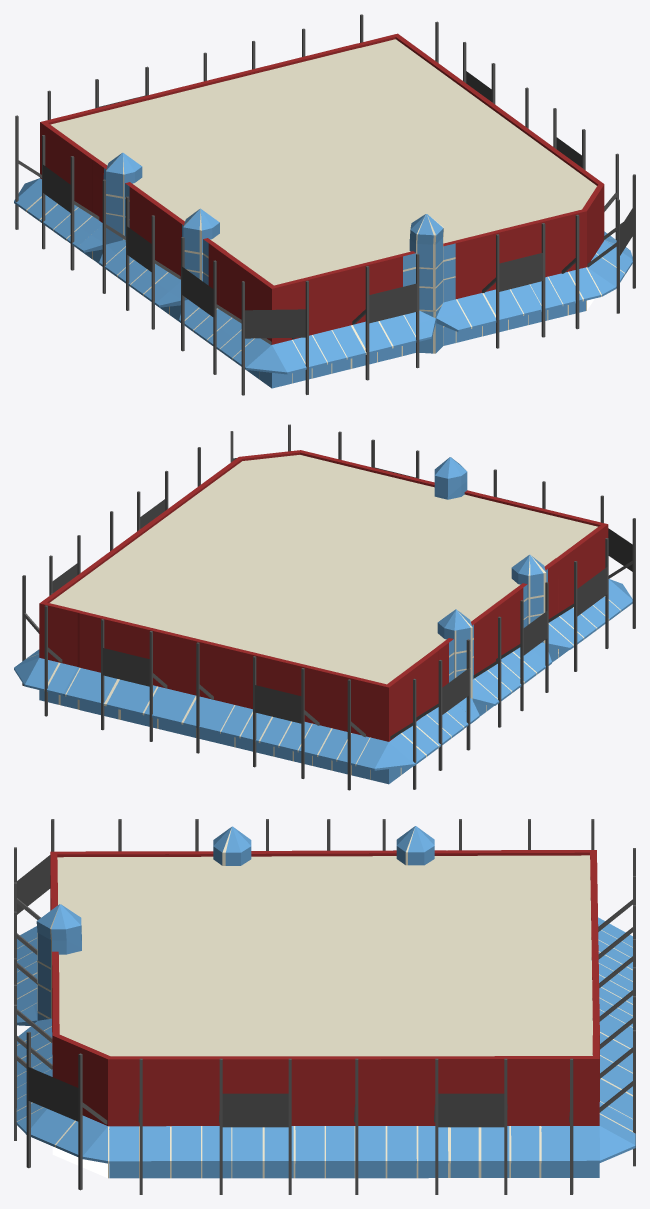
The model's file is wbbuilding2v2_draco.glb.
The picture shows the model from 3 angles, top to bottom: view 1: azimuth 30°, elevation 25°; view 2: azimuth 150°, elevation 25°; view 3: azimuth 270°, elevation 25°; orthographic projection. The views are drawn at different scales.
Parts seen in each view (by area): view 1: Cube.005; view 2: Cube.005; view 3: Cube.005.
Part boxes in pixels (bbox=[...]): Cube.005: bbox=[14, 14, 635, 395]; Cube.005: bbox=[14, 424, 635, 790]; Cube.005: bbox=[14, 819, 635, 1194].
Bounding box in the file's own units: 3660 × 1127 × 3992.
